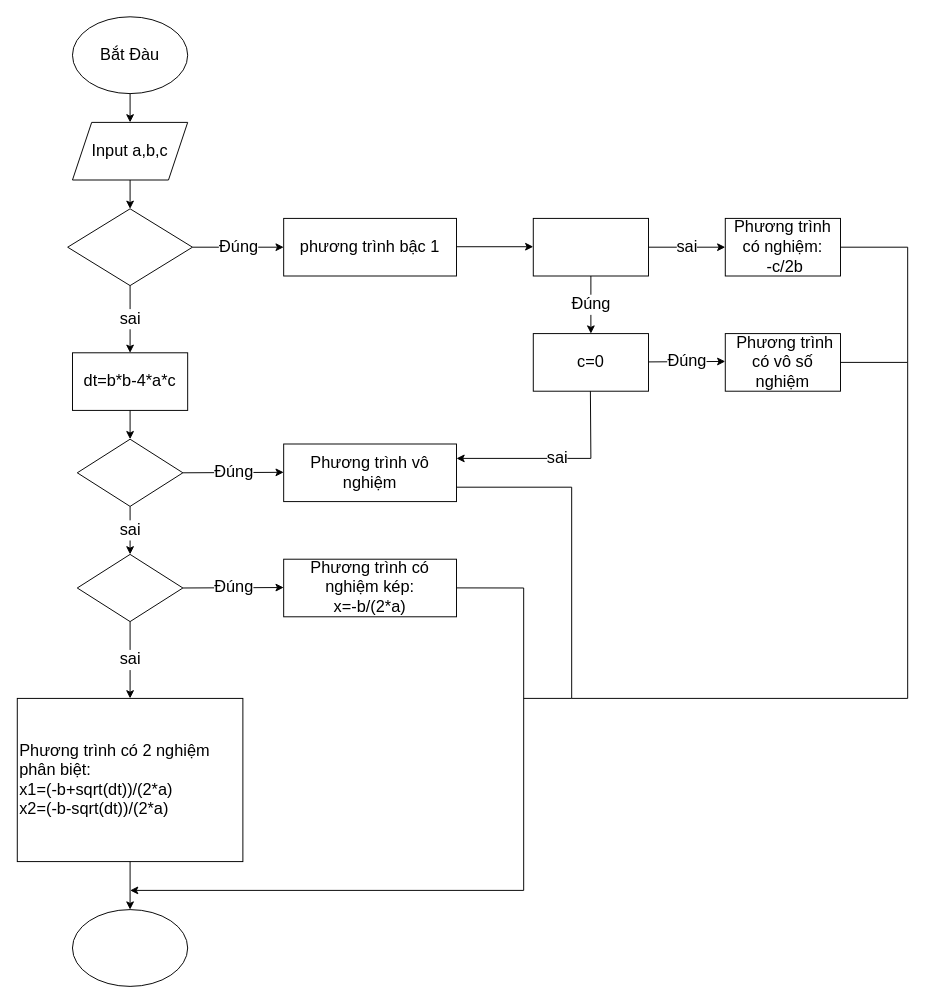
Image size: 925x1003. Some labels were removed from this diagram. The centre of each missing label's shape, as x and y in pixels:
"a=0" goes at pixel 129 247.
"b=0" goes at pixel 590 246.
"dt<0" goes at pixel 129 472.
"dt=0" goes at pixel 129 587.
"Kết thúc" goes at pixel 130 947.
